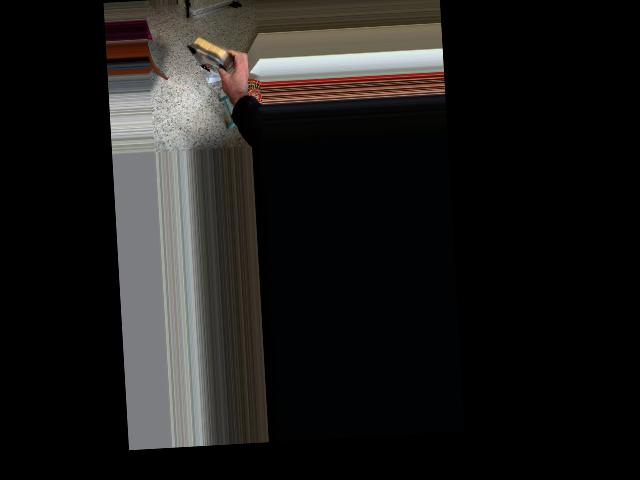cheese: (177, 24, 256, 89)
